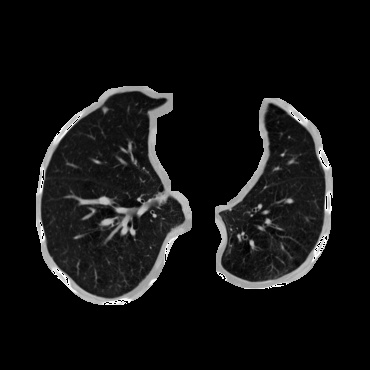PN: (102, 107, 108, 113)
